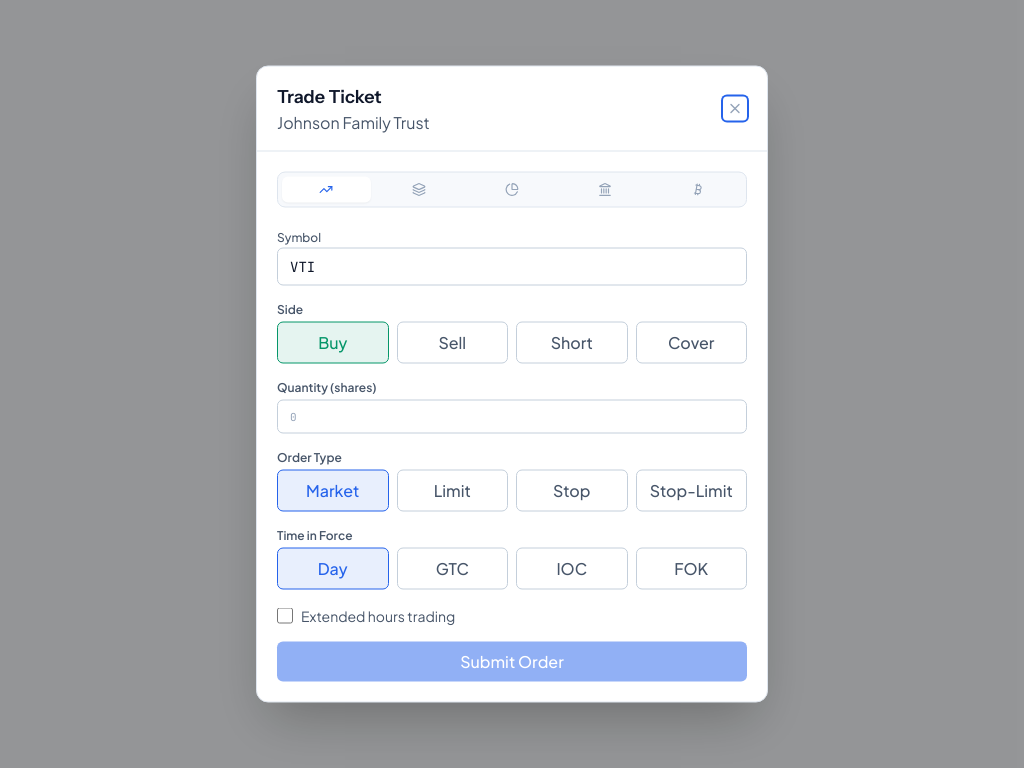
Scenario: TradeTicketDialog — priceUnavailable blocks submission when no pre-trade check has run › a symbol with no quote and no prefill price disables submit, rather than allowing an unchecked order
In the number field labelled "Quantity (shares)": x=512, y=416 [277,400,747,434], type "100"
(page scrolled)
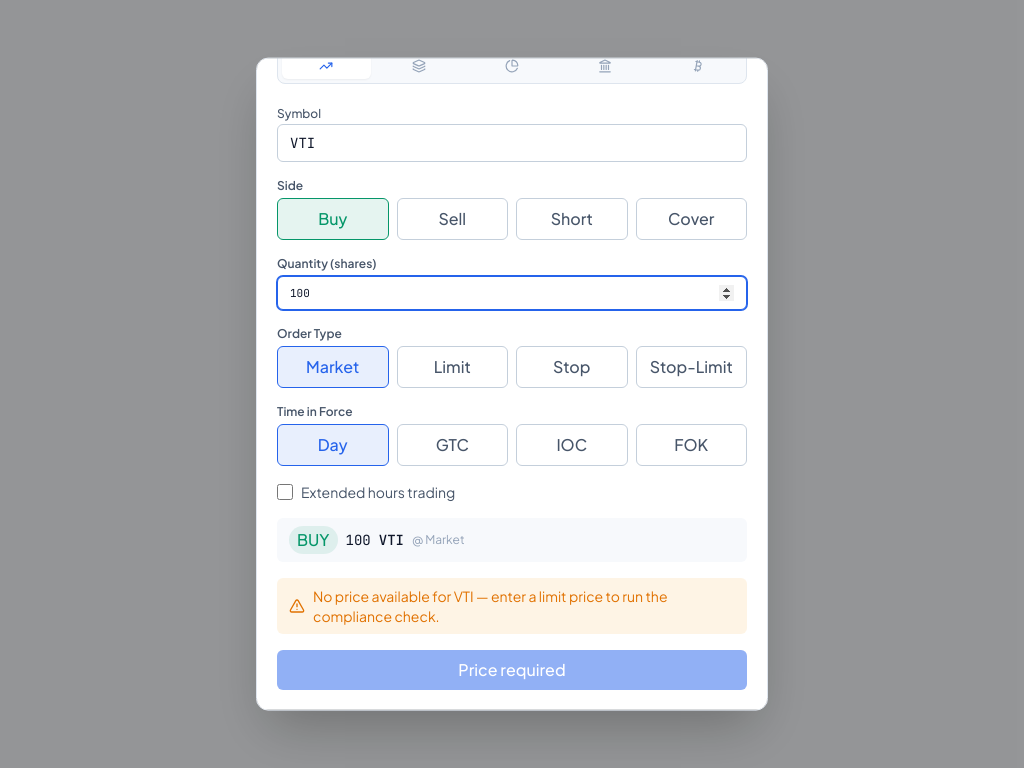
Expected: the button "Price required" is disabled, [277,650,747,690]
Now the text "No price available for VTI — enter a limit price to run the compliance check." is shown, box [277,578,747,634]
